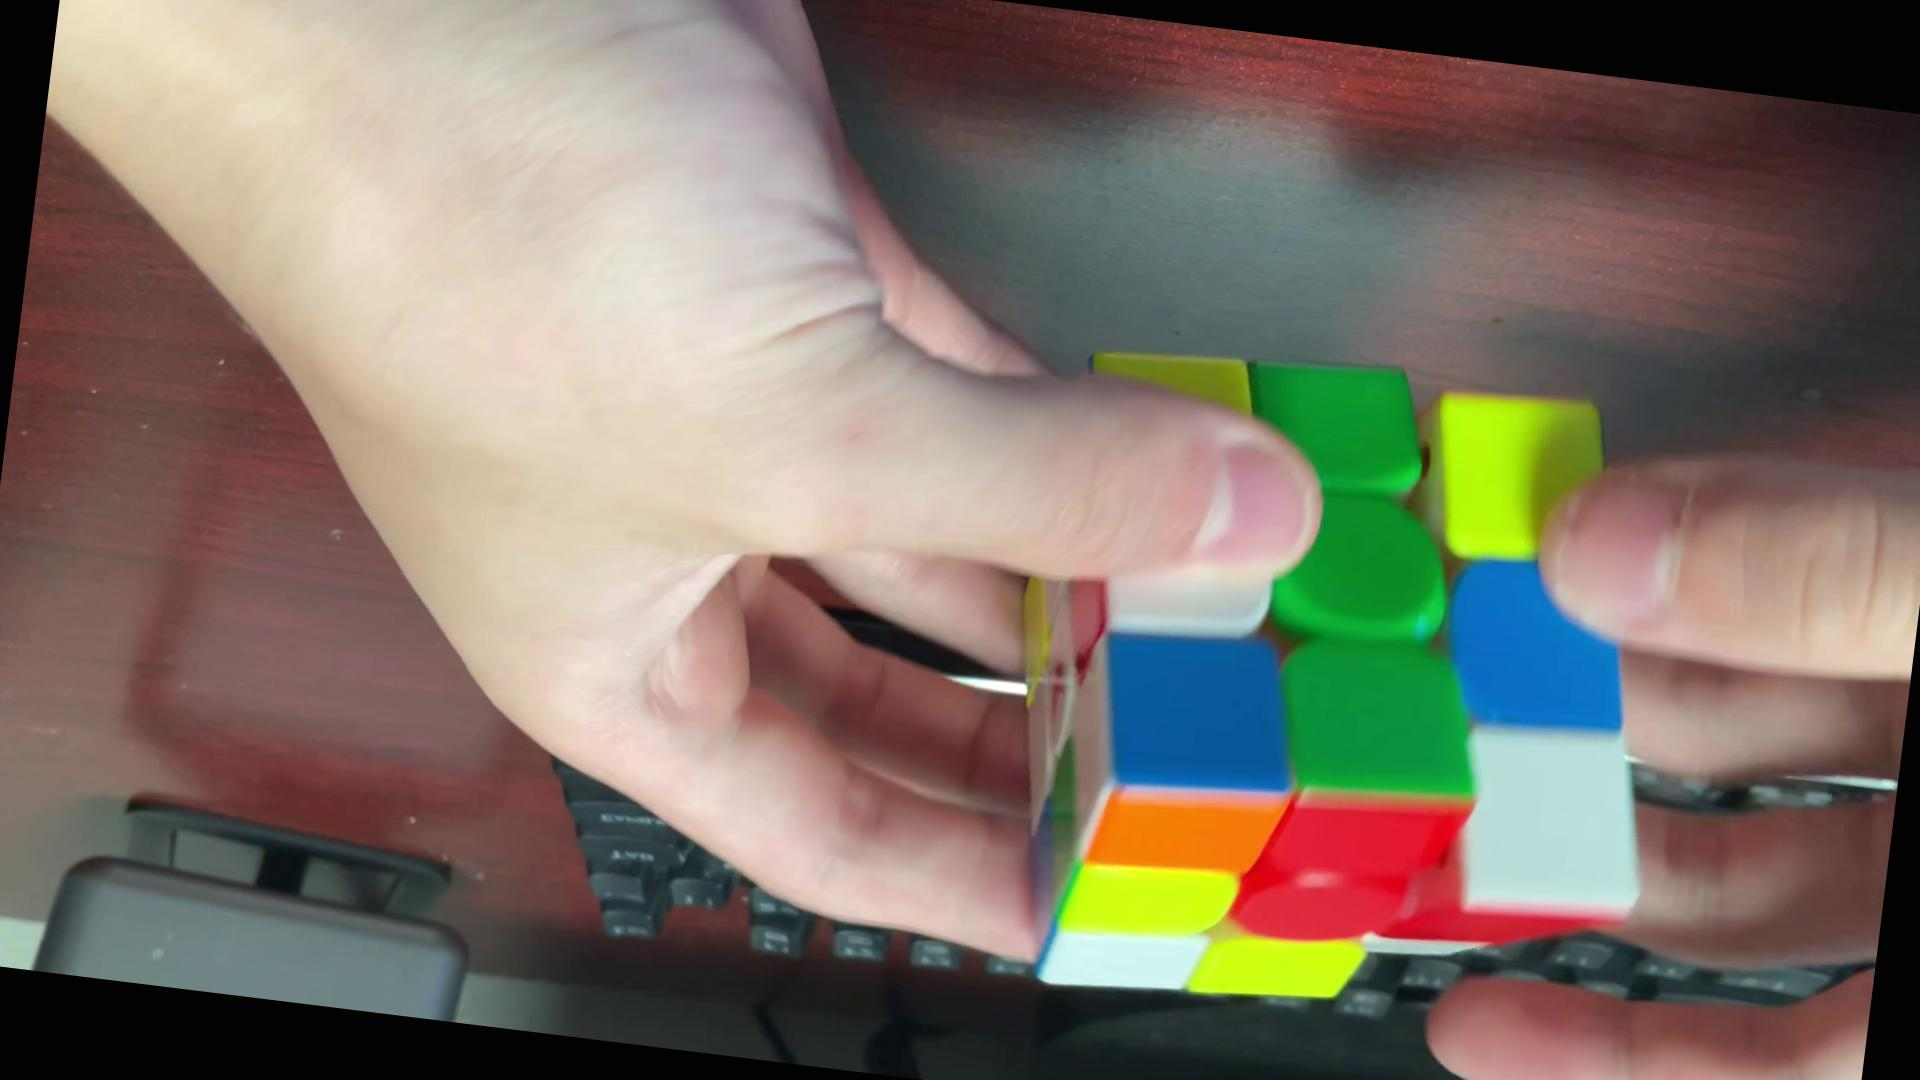Rubiks-Cube: (967, 315, 1709, 1059)
